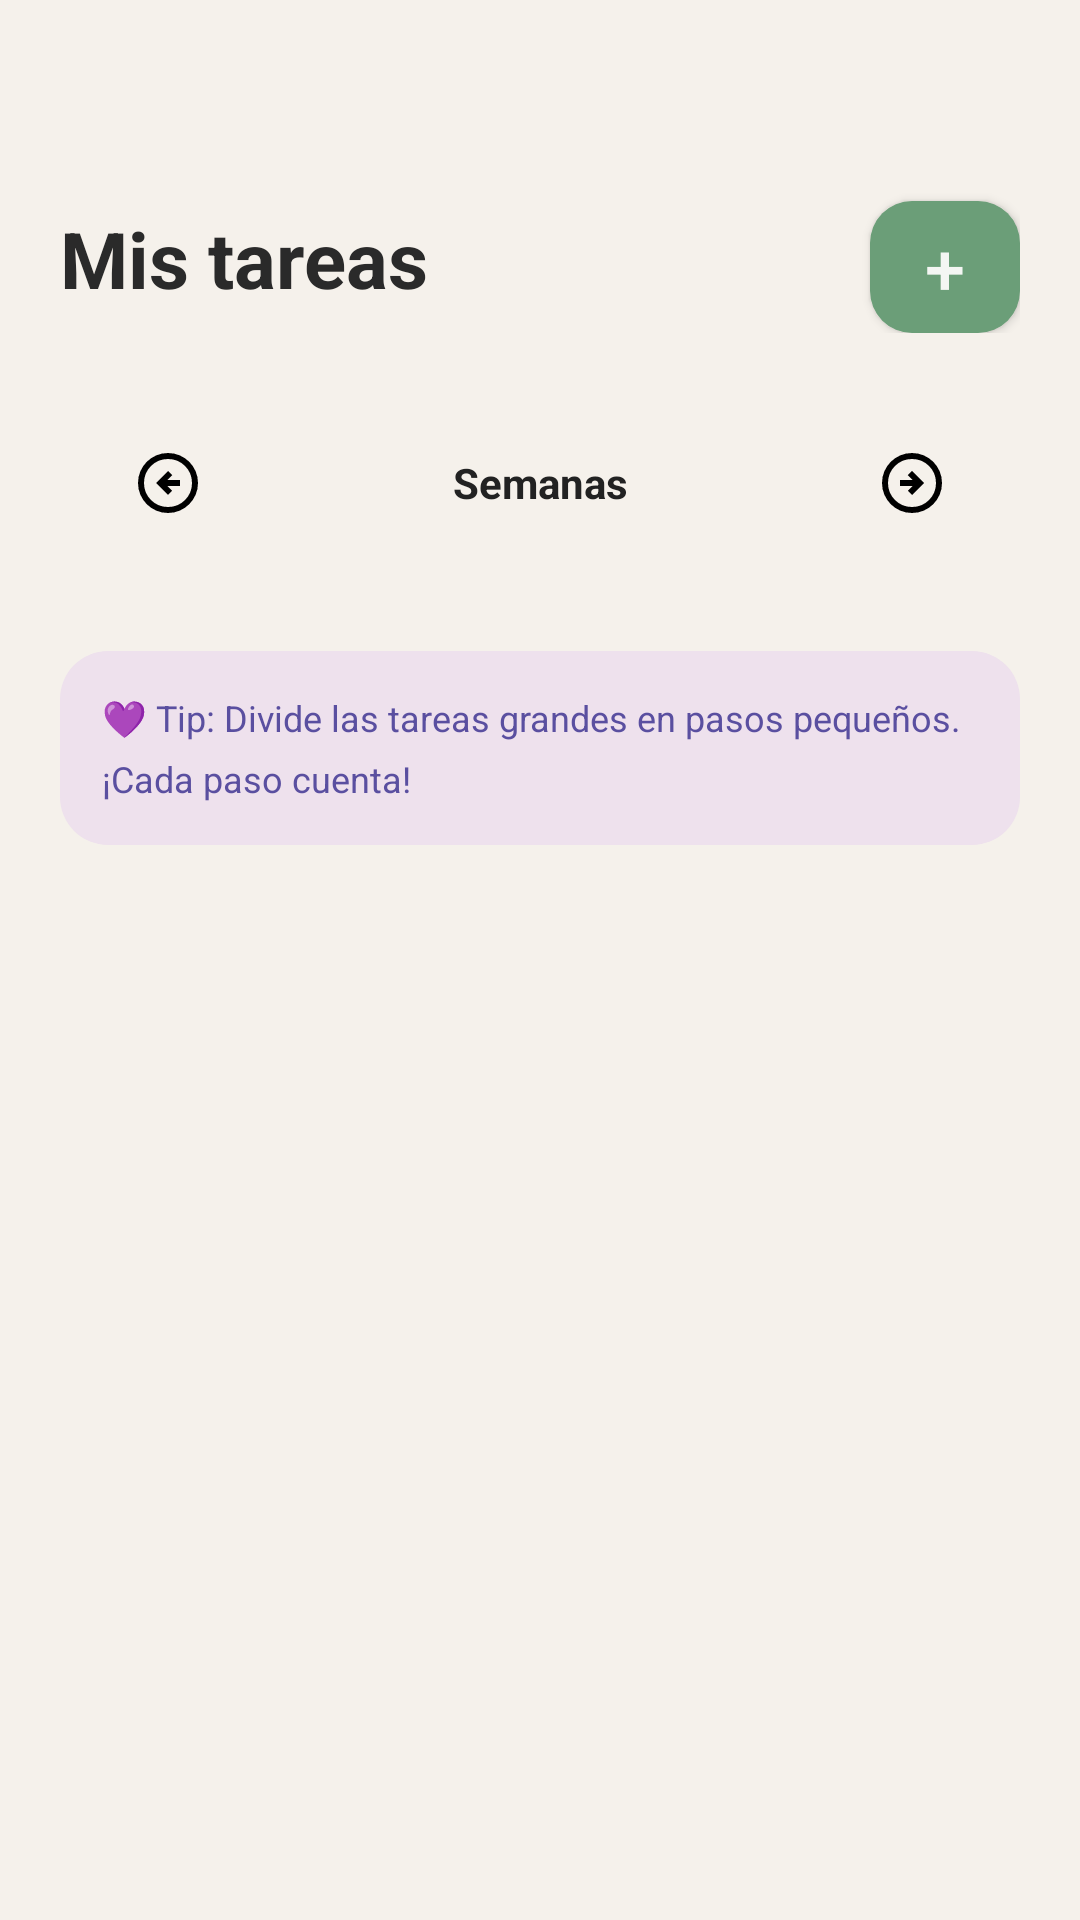

Locate icon controls on the screen. Image size 1080x1920, boxes as (x1, y1, x2, y2).
Semana Anterior: (138, 453, 198, 513)
